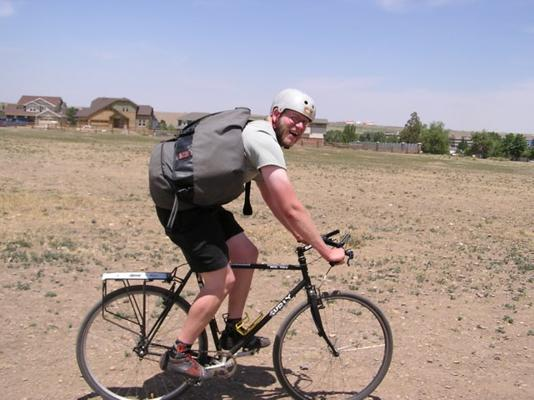person: (146, 88, 350, 381)
